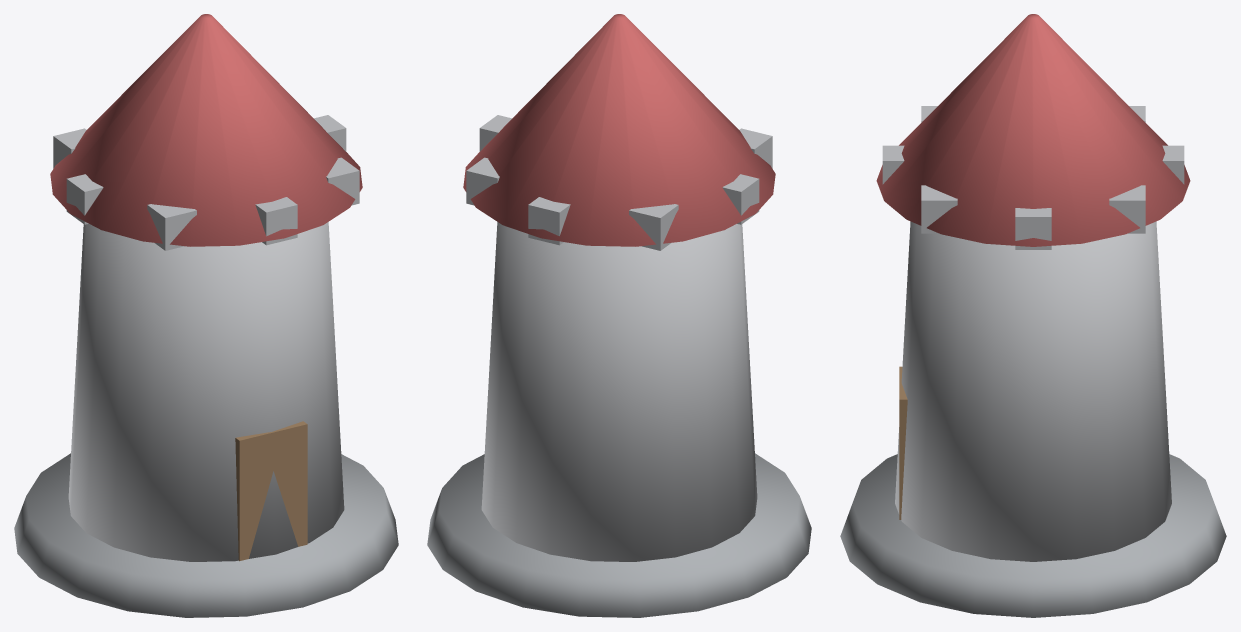
The model's file is 3ed049d0-ac86-4ee6-b862-a4acabde61f9.glb.
3 views of the same model, side by side, from view 1: azimuth 30°, elevation 25°; view 2: azimuth 150°, elevation 25°; view 3: azimuth 270°, elevation 25° (orthographic).
Visible parts, largest first — view 1: GeneratedObject3D; view 2: GeneratedObject3D; view 3: GeneratedObject3D.
Part boxes in pixels (box(x1,y1,x2,y2)): GeneratedObject3D: box(14, 14, 398, 617); GeneratedObject3D: box(427, 14, 811, 617); GeneratedObject3D: box(840, 14, 1226, 617).
Bounding box in the file's own units: 3.2 × 4.75 × 3.2.
